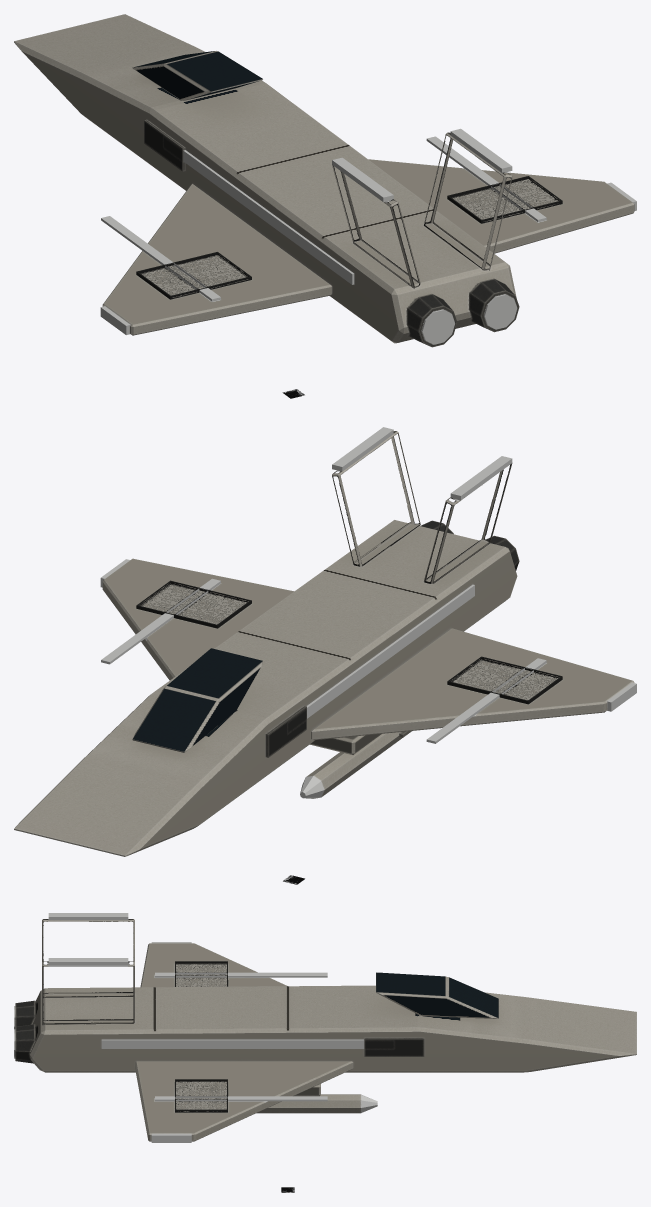
The model's file is ord_falcon.fbx.
3 views of the same model, one above another, from view 1: azimuth 30°, elevation 25°; view 2: azimuth 150°, elevation 25°; view 3: azimuth 270°, elevation 25° (orthographic). The views are drawn at different scales.
Visible parts, largest first — view 1: base_bar, base_glow_running_bar; view 2: base_bar, base_glow_running_bar, pylon_bar; view 3: base_bar, base_glow_running_bar, pylon_bar.
Part boxes in pixels (left/top/right/bottom): base_bar: left=14, top=14, right=634, bottom=347; base_glow_running_bar: left=100, top=128, right=636, bottom=344; base_bar: left=14, top=431, right=634, bottom=856; base_glow_running_bar: left=100, top=427, right=636, bottom=743; pylon_bar: left=306, top=731, right=411, bottom=796; base_bar: left=15, top=919, right=636, bottom=1141; base_glow_running_bar: left=14, top=913, right=364, bottom=1142; pylon_bar: left=256, top=1083, right=360, bottom=1113.
Size of the model in its own units: 690 by 419 by 937.
Materials: 2 (2 with a texture image).
